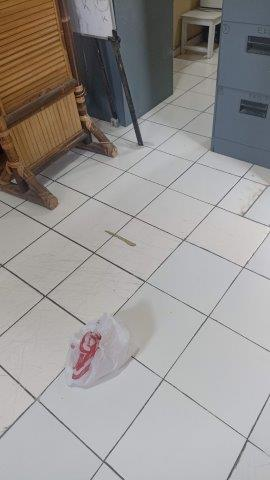plastik: (66, 311, 138, 390)
